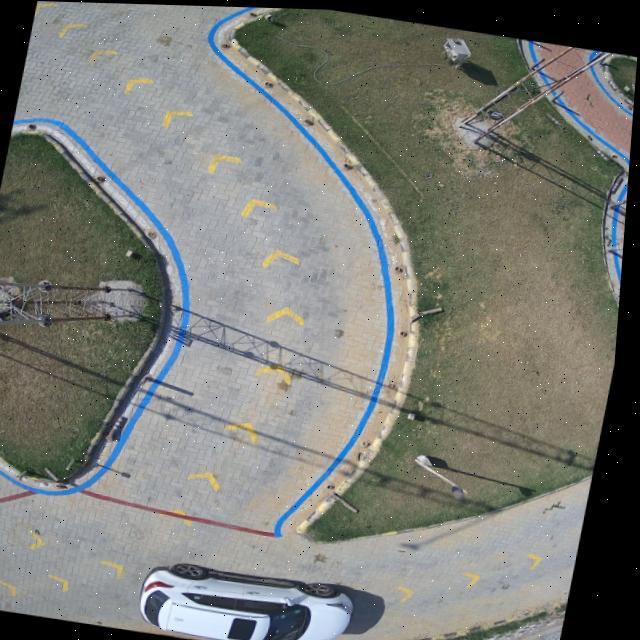car: (150, 562, 367, 640)
